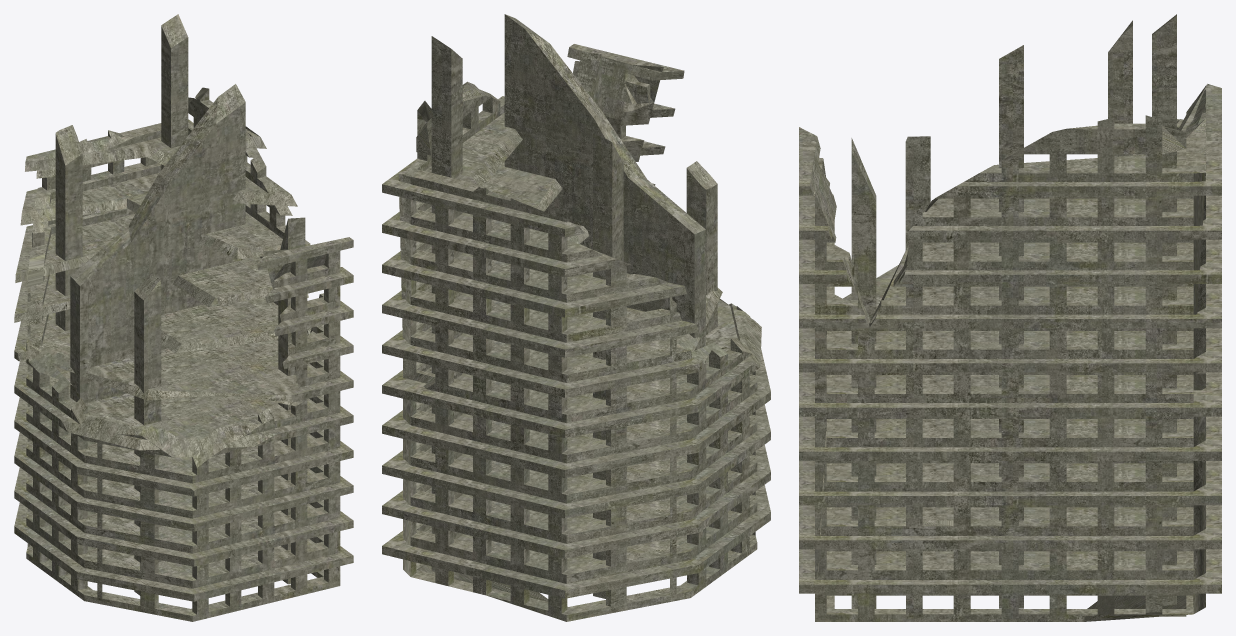
The model's file is yikinti_d.gltf.
The picture shows the model from 3 angles, left to right: view 1: azimuth 30°, elevation 25°; view 2: azimuth 150°, elevation 25°; view 3: azimuth 270°, elevation 25°; orthographic projection. The views are drawn at different scales.
Visible parts, largest first — view 1: yikinti_d; view 2: yikinti_d; view 3: yikinti_d.
Part boxes in pixels (bbox=[...]): yikinti_d: bbox=[14, 14, 353, 621]; yikinti_d: bbox=[382, 14, 770, 621]; yikinti_d: bbox=[799, 14, 1221, 621].
Size of what is drawn, in the model's own units: 16.83 by 33.81 by 21.77.
1 material, 1 textured.
